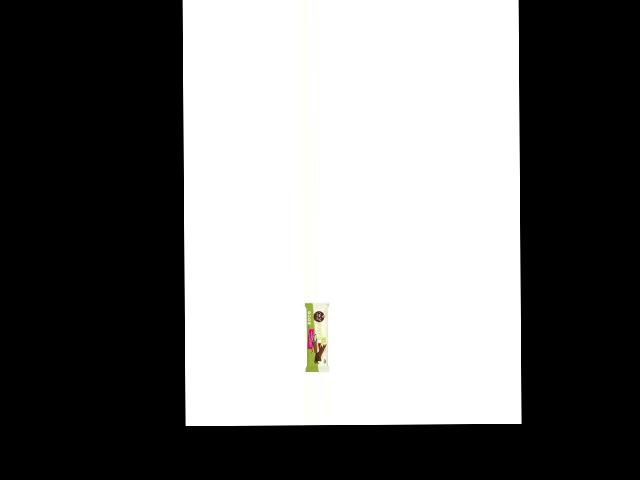chocolate: (302, 303, 331, 373)
